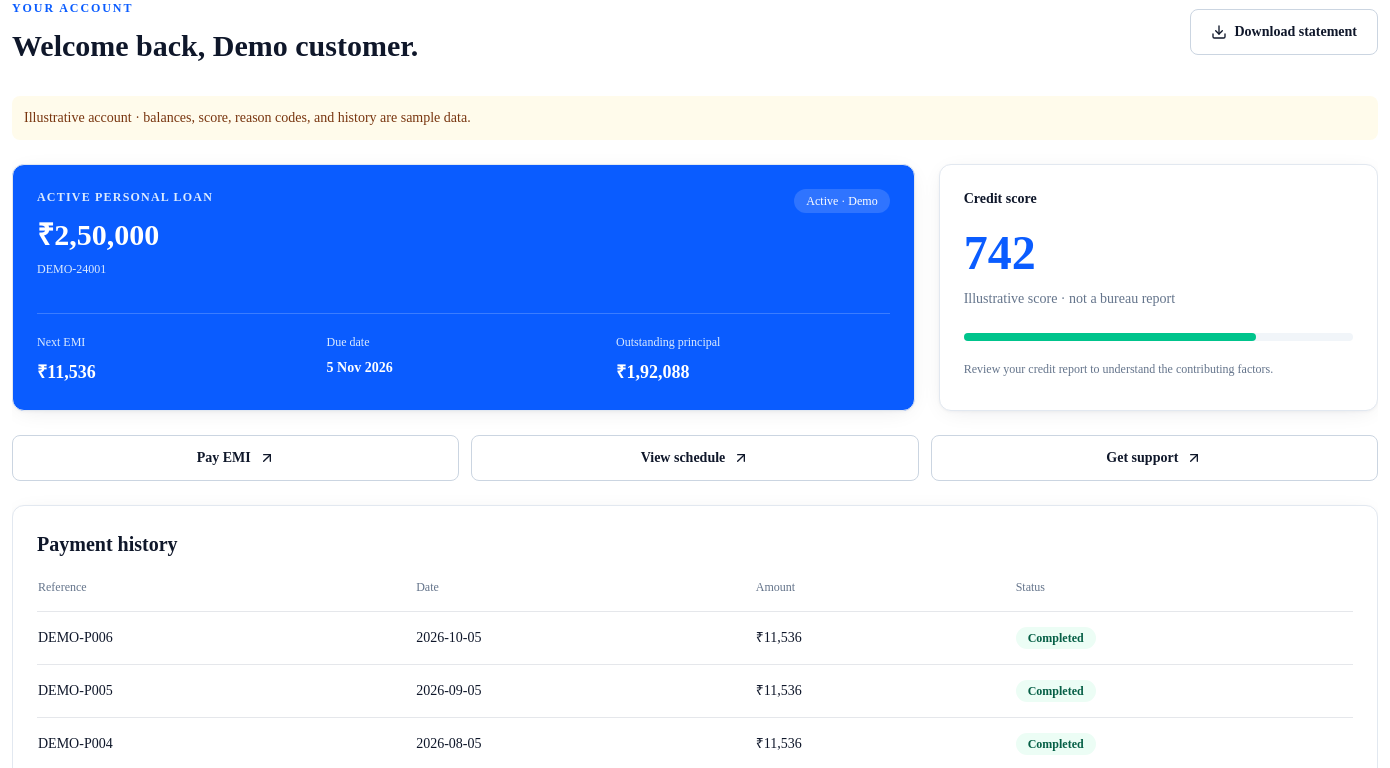
Test: statement failure is shown without exposing an empty download
Expected: the text "742" is shown, [964, 226, 1036, 279]
Click the button "Download statement".
click(1284, 32)  # box [1190, 9, 1378, 55]
(page scrolled)
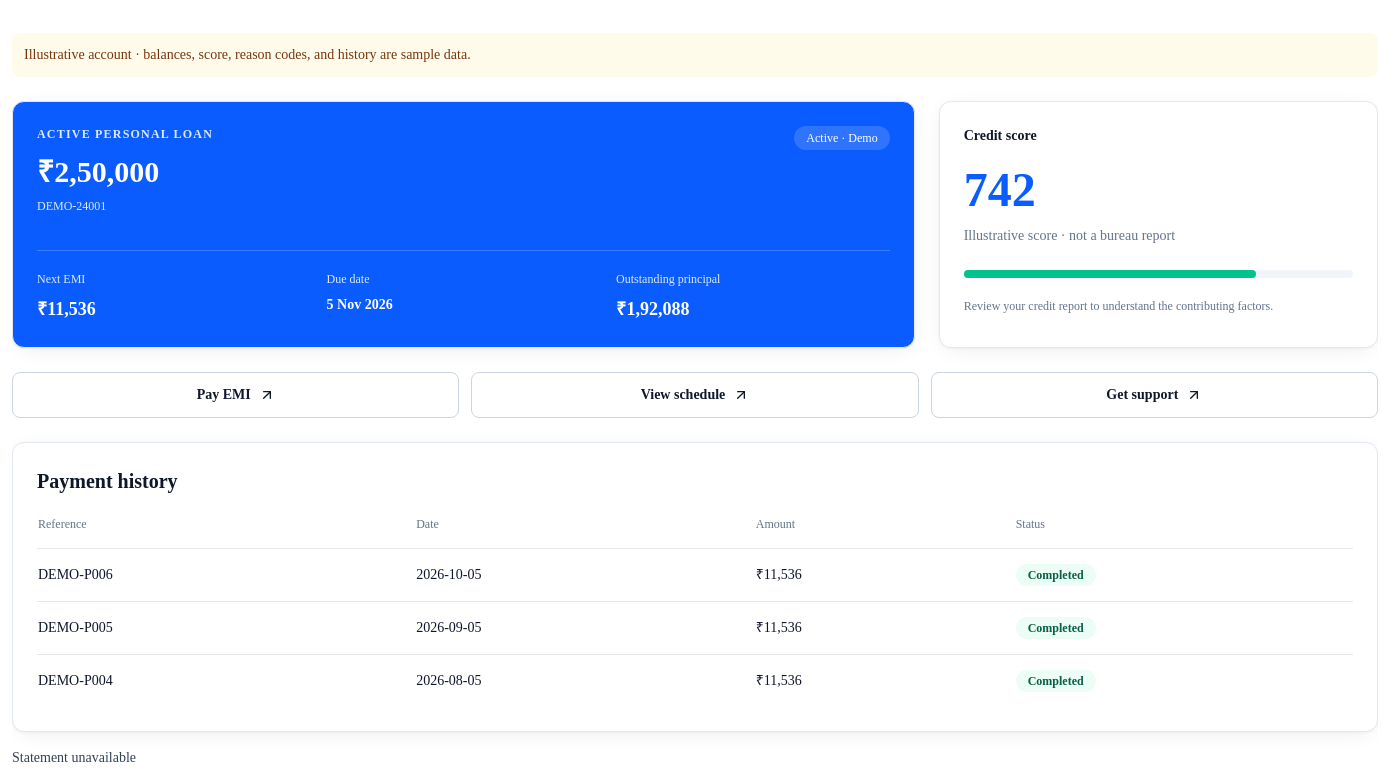
Now the text "Statement unavailable" is shown, box [12, 750, 136, 765]
